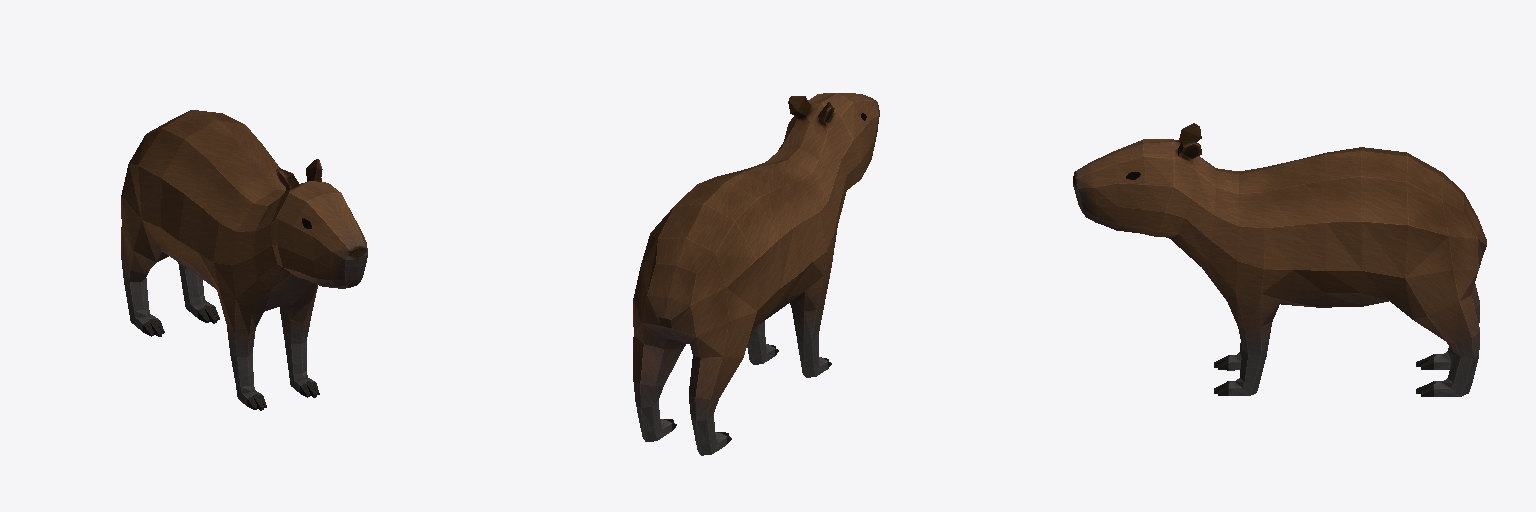
3 views of the same model, side by side, from view 1: azimuth 30°, elevation 25°; view 2: azimuth 150°, elevation 25°; view 3: azimuth 270°, elevation 25° (orthographic).
Parts seen in each view (by area): view 1: Capybara_mesh; view 2: Capybara_mesh; view 3: Capybara_mesh.
Boxes of the visible parts, x1=… form: Capybara_mesh: x1=121, y1=110, x2=367, y2=410; Capybara_mesh: x1=633, y1=93, x2=879, y2=455; Capybara_mesh: x1=1073, y1=123, x2=1486, y2=396.
Size of the model in its own units: 2.16 by 4.72 by 7.16.
1 materials, 1 textured.